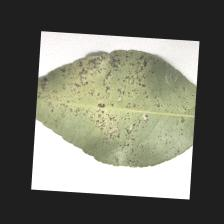canker: (72, 61, 150, 155)
